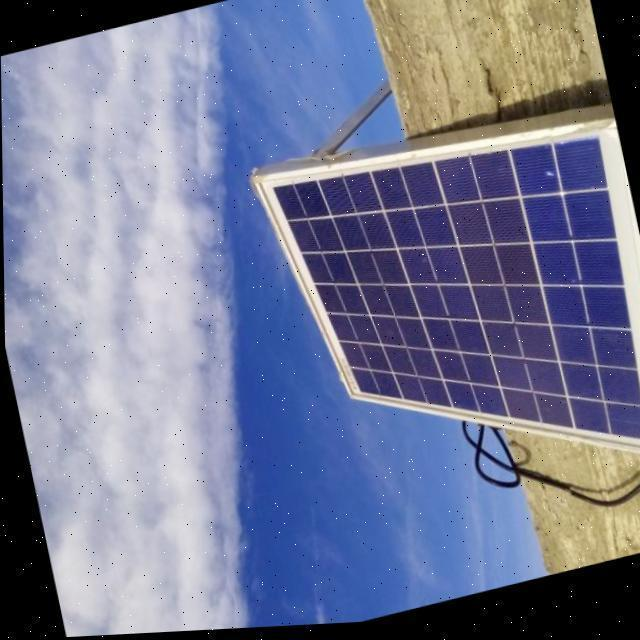Normal Solar Panel: (260, 96, 640, 538)
